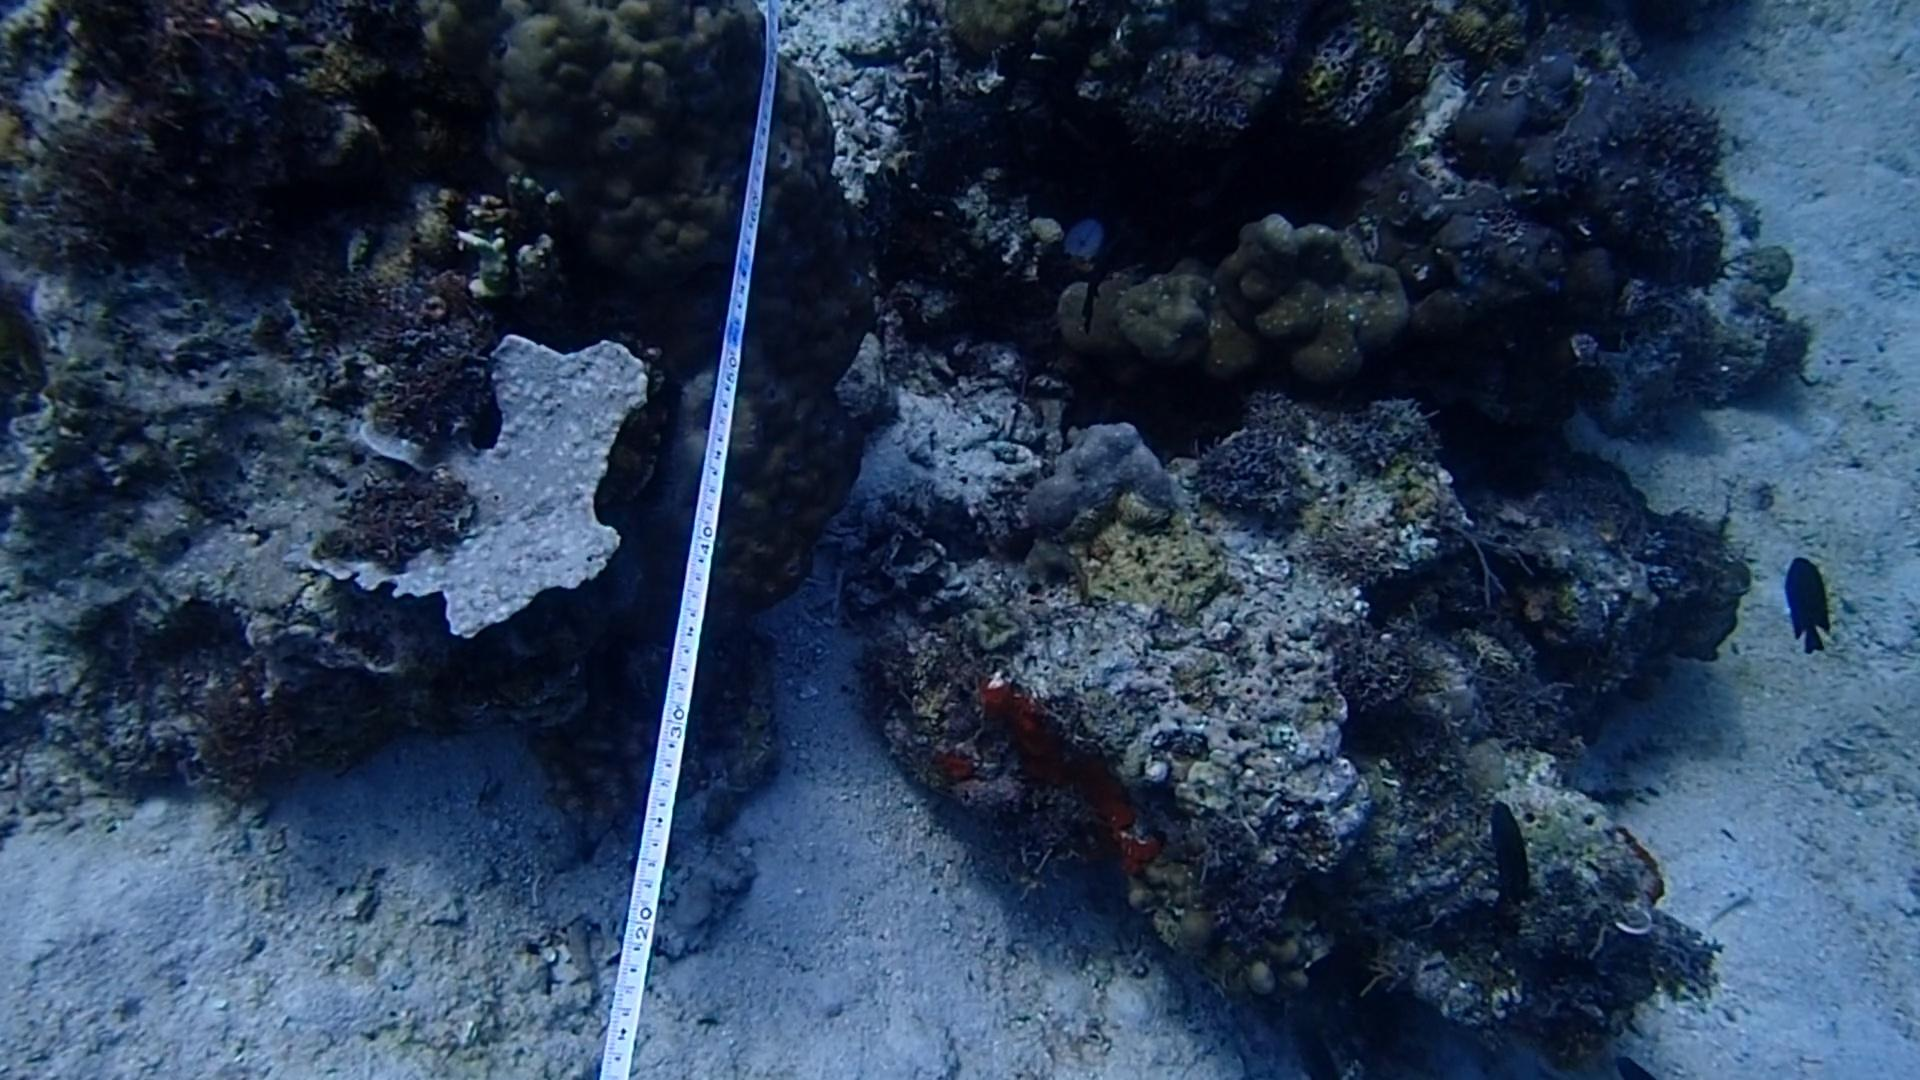Dark Fish: (1474, 795, 1561, 924), (1764, 550, 1849, 659), (1051, 232, 1134, 328)
